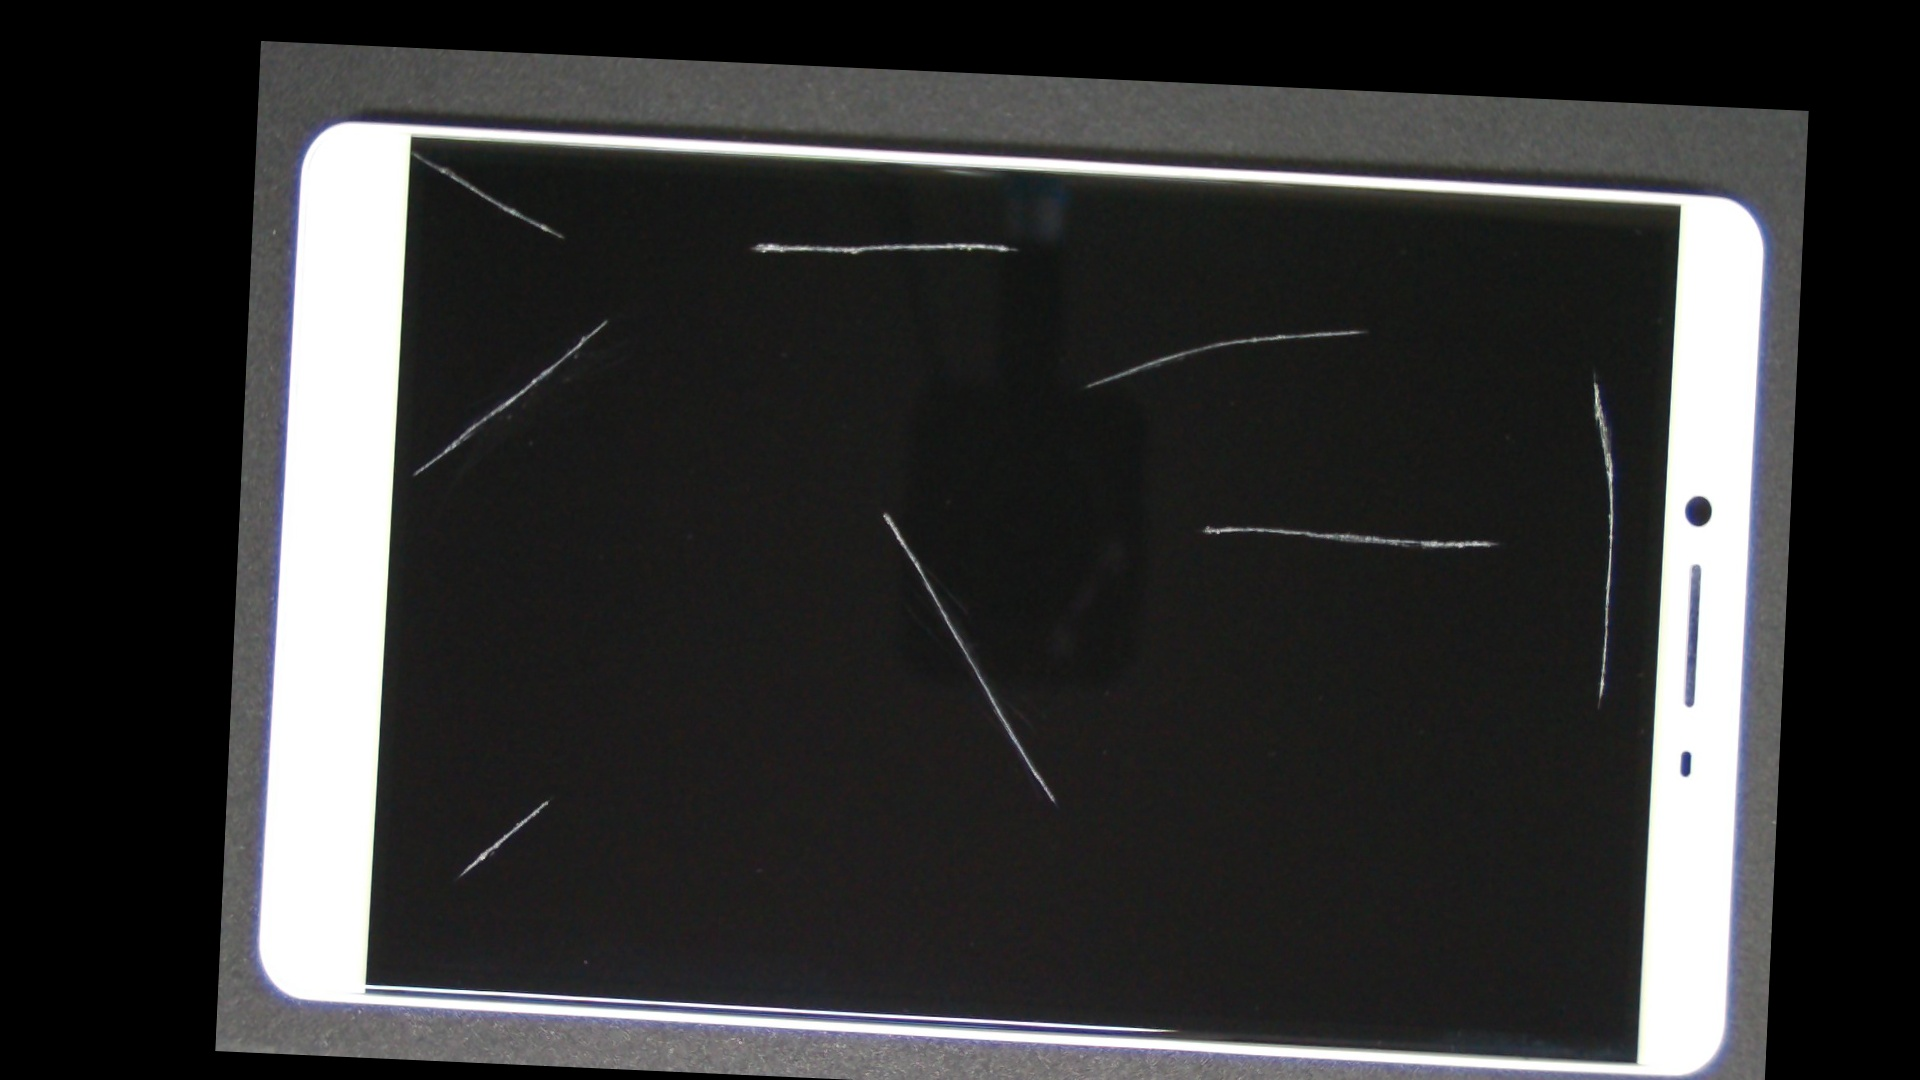oil: (738, 282, 1770, 767), (553, 276, 1215, 746), (798, 185, 1804, 468), (916, 206, 1803, 517), (376, 419, 725, 1073), (624, 141, 1381, 344), (422, 179, 787, 460), (334, 95, 495, 204)
